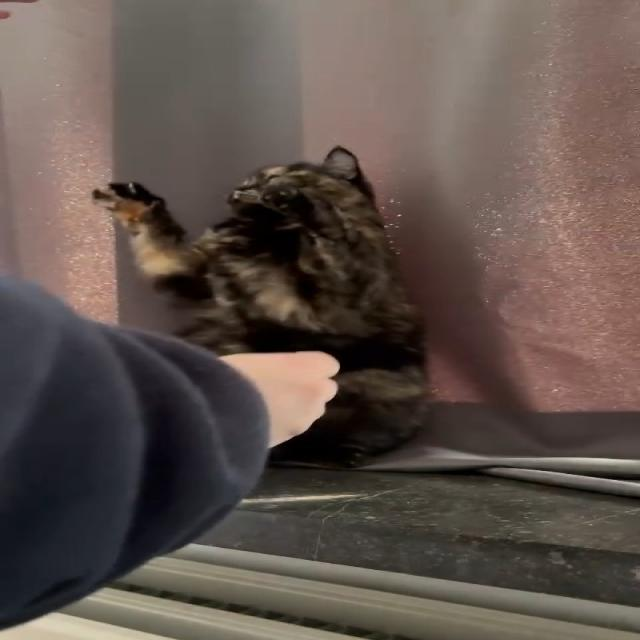authorized: (91, 144, 433, 469)
